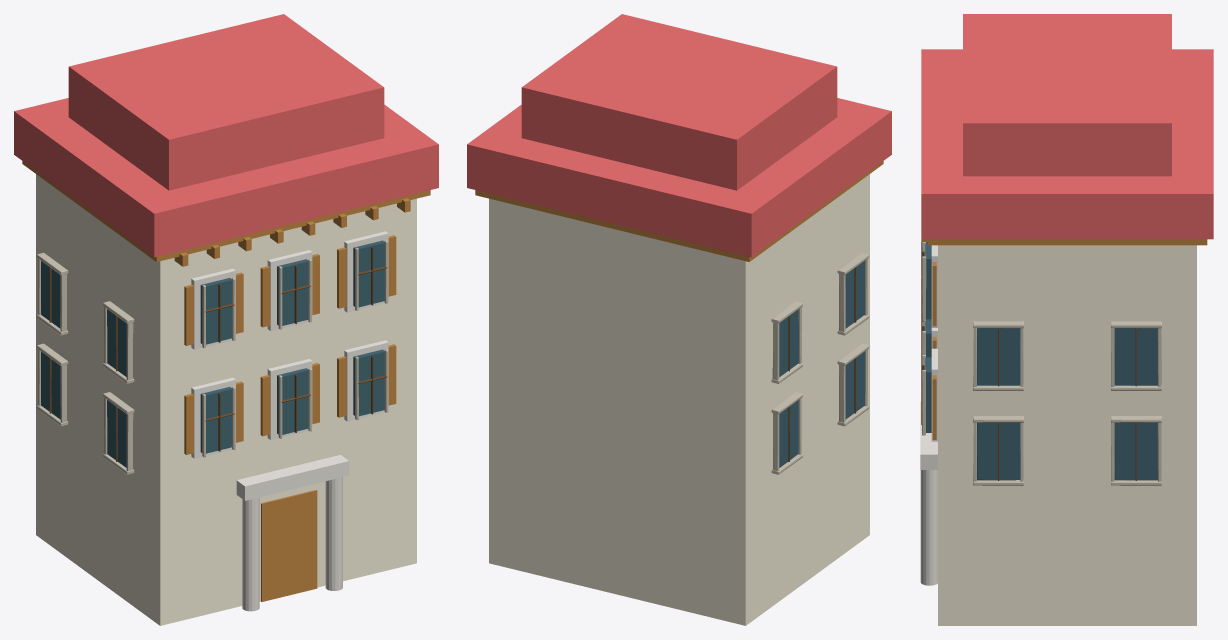
Rendered from city_detail_03-lod.glb.
3 renders of one model, left to right at view 1: azimuth 30°, elevation 25°; view 2: azimuth 150°, elevation 25°; view 3: azimuth 270°, elevation 25°, orthographic. The views are drawn at different scales.
Visible parts, largest first — view 1: Exterior architecture detail 3; view 2: Exterior architecture detail 3; view 3: Exterior architecture detail 3.
Boxes of the visible parts, left/top/right/bottom form: Exterior architecture detail 3: left=14, top=14, right=438, bottom=625; Exterior architecture detail 3: left=467, top=14, right=891, bottom=625; Exterior architecture detail 3: left=920, top=14, right=1213, bottom=625.
Bounding box in the file's own units: 8.34 × 13 × 7.02.
